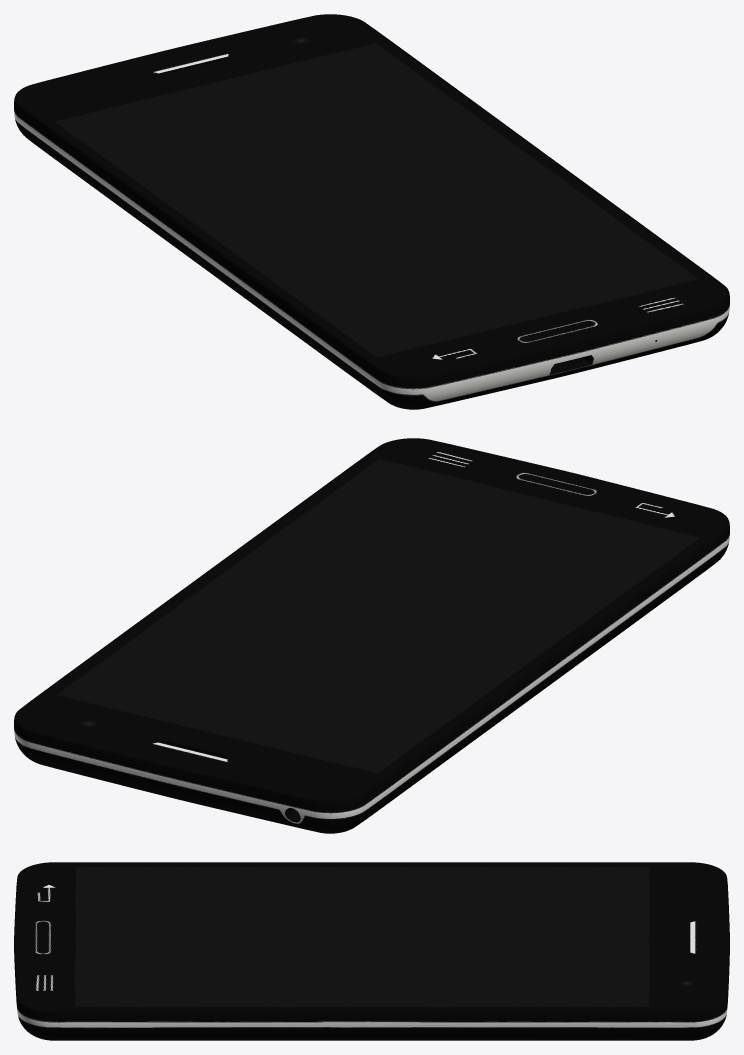
File: cell_phone.glb
The picture shows the model from 3 angles, top to bottom: view 1: azimuth 30°, elevation 25°; view 2: azimuth 150°, elevation 25°; view 3: azimuth 270°, elevation 25°; orthographic projection. The views are drawn at different scales.
Visible parts, largest first — view 1: celular; view 2: celular; view 3: celular.
Boxes of the visible parts, box(x1,y1,x2,y2) form: celular: box(14, 14, 729, 409); celular: box(14, 438, 729, 833); celular: box(14, 862, 729, 1040).
Size of the model in its own units: 0.0866 by 0.01 by 0.1731.
Materials: 1 (1 with a texture image).
